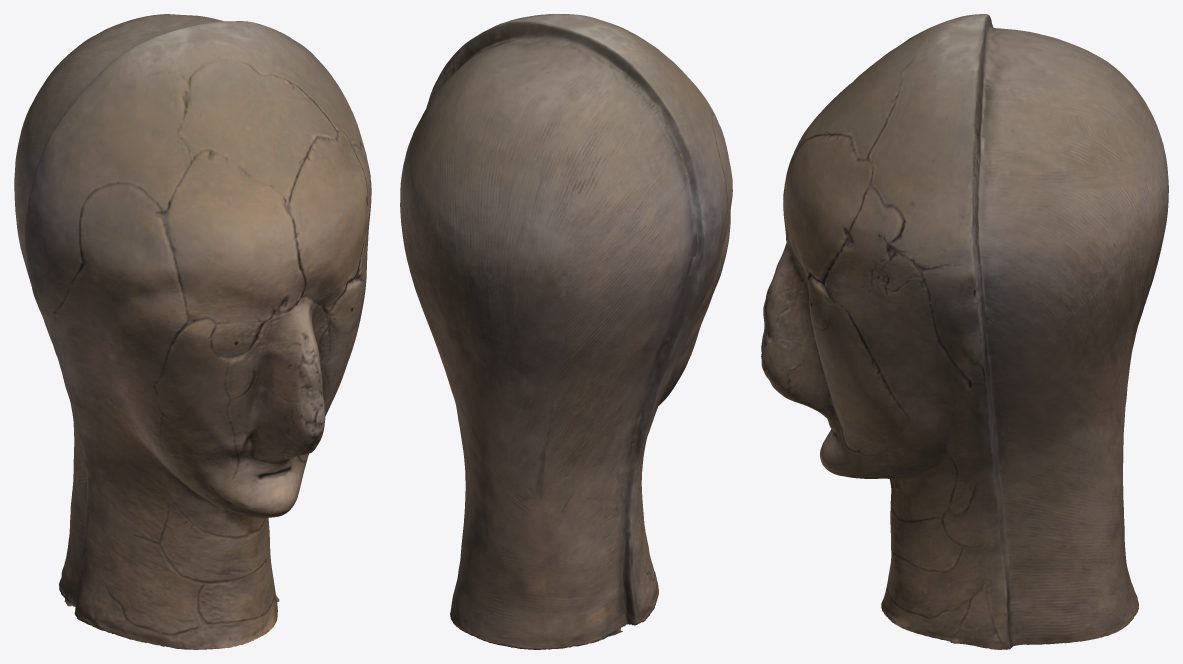
Rendered from shah-cracked-head.glb.
3 renders of one model, left to right at view 1: azimuth 30°, elevation 25°; view 2: azimuth 150°, elevation 25°; view 3: azimuth 270°, elevation 25°, orthographic. The views are drawn at different scales.
Visible parts, largest first — view 1: headC_Low; view 2: headC_Low; view 3: headC_Low.
Boxes of the visible parts, x1,y1,x2,y2 form: headC_Low: (14, 14, 371, 649); headC_Low: (400, 14, 732, 649); headC_Low: (761, 14, 1168, 649).
Bounding box in the file's own units: 0.6981 × 1.24 × 0.7956.
1 material, 1 textured.
